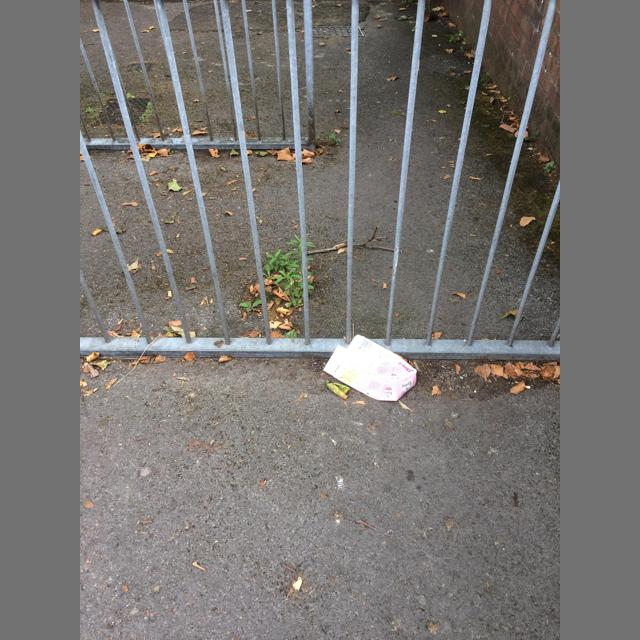litter: (323, 335, 417, 401)
